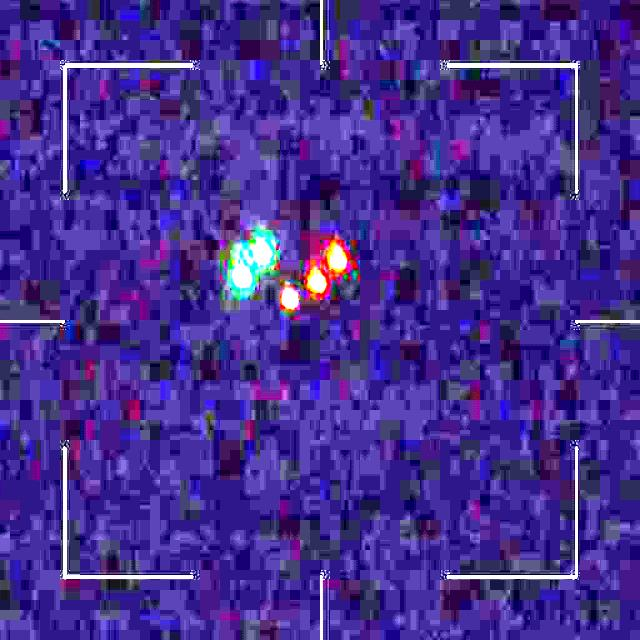bird: (230, 232, 349, 310)
